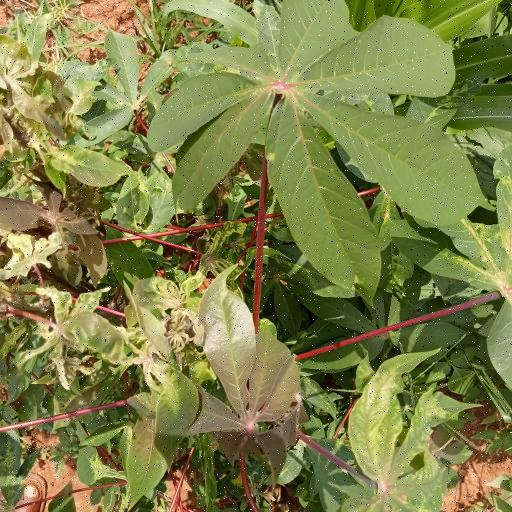Cassava_Healthy: (149, 1, 488, 285)
